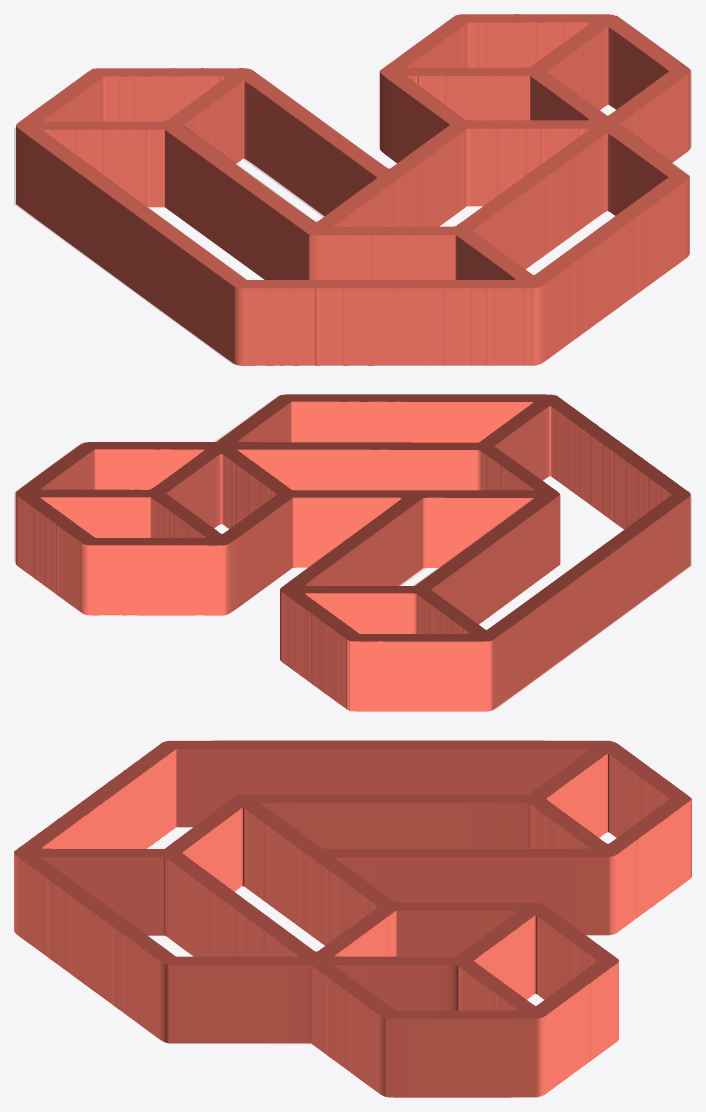
File: laravel.glb
The picture shows the model from 3 angles, top to bottom: view 1: azimuth 30°, elevation 25°; view 2: azimuth 150°, elevation 25°; view 3: azimuth 270°, elevation 25°; orthographic projection. The views are drawn at different scales.
Parts seen in each view (by area): view 1: Node1, Node2, Node4; view 2: Node1, Node2, Node4; view 3: Node1, Node5, Node8, Node6, Node7, Node3.
Boxes of the visible parts, x1=… form: Node1: x1=16, y1=14, x2=690, y2=365; Node2: x1=14, y1=127, x2=232, y2=363; Node4: x1=243, y1=82, x2=375, y2=216; Node1: x1=15, y1=394, x2=690, y2=711; Node2: x1=494, y1=496, x2=691, y2=710; Node4: x1=307, y1=498, x2=427, y2=585; Node1: x1=14, y1=740, x2=691, y2=1096; Node5: x1=386, y1=1019, x2=538, y2=1097; Node8: x1=389, y1=1019, x2=536, y2=1097; Node6: x1=169, y1=965, x2=310, y2=1044; Node7: x1=261, y1=803, x2=529, y2=848; Node3: x1=263, y1=804, x2=528, y2=848.
Bounding box in the file's own units: 3.83 × 0.5 × 3.92.
